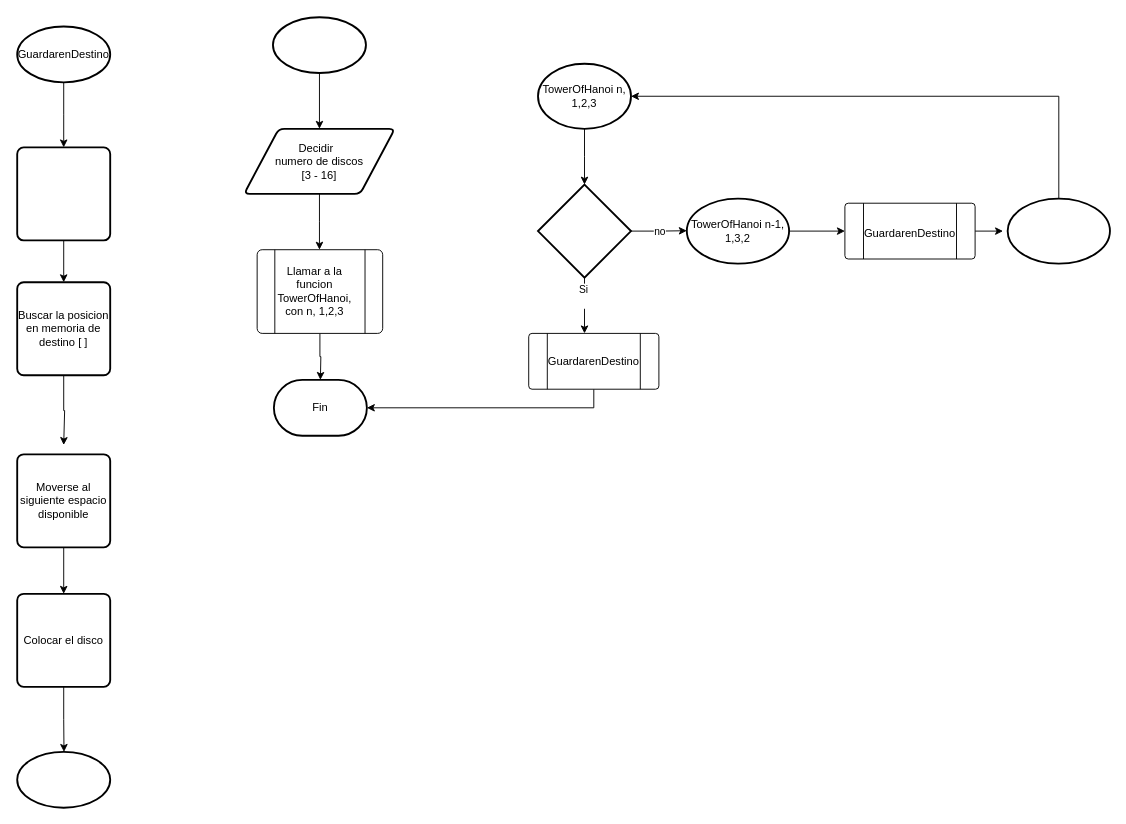
Some shapes in this 1126 by 824 pixel diagram are drawn without their labels. The centre of each missing label's shape, as x and y in pixels:
"Calcular cuantos discos hay en la destino" belongs at (x=63, y=193).
"fin del proceso" belongs at (x=63, y=779).
"Inicio" belongs at (x=319, y=44).
"TowerOfHanoi n-1, 3,2,1" belongs at (x=1058, y=230).
"¿n = 1?" belongs at (x=584, y=230).
